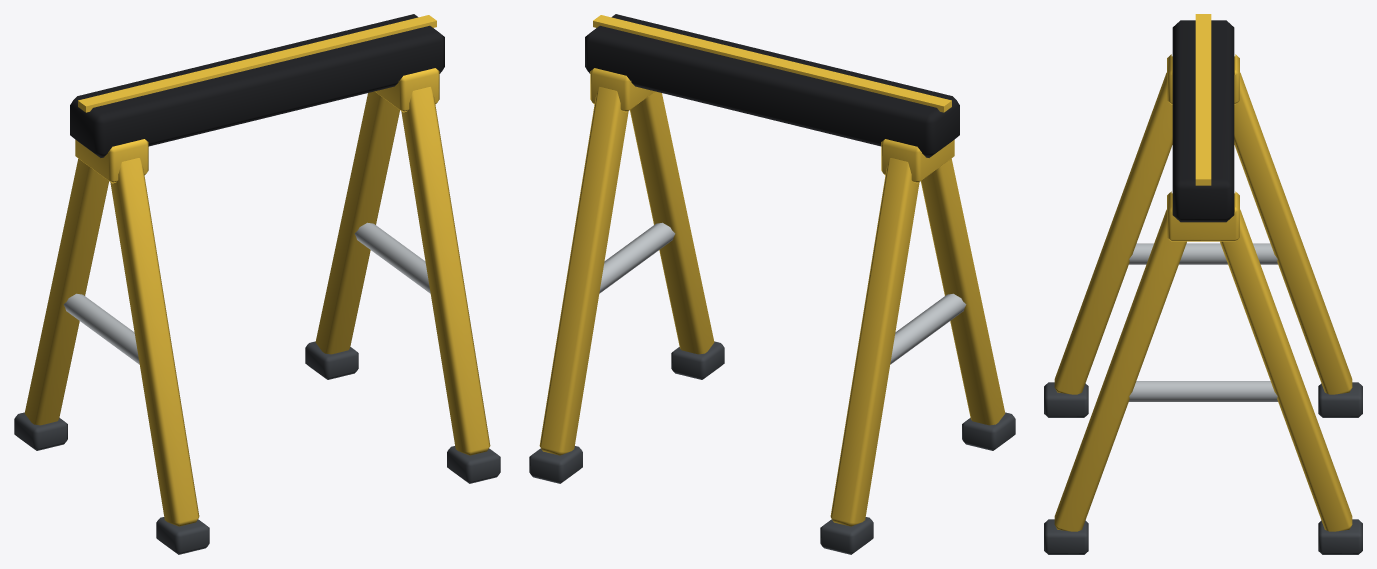
Rendered from SM_Sawhorse_Folding_01.glb.
3 views of the same model, side by side, from view 1: azimuth 30°, elevation 25°; view 2: azimuth 150°, elevation 25°; view 3: azimuth 270°, elevation 25° (orthographic). The views are drawn at different scales.
Parts seen in each view (by area): view 1: SM_Sawhorse_Folding_01; view 2: SM_Sawhorse_Folding_01; view 3: SM_Sawhorse_Folding_01.
Part boxes in pixels (bbox=[...]): SM_Sawhorse_Folding_01: bbox=[14, 14, 500, 554]; SM_Sawhorse_Folding_01: bbox=[529, 14, 1015, 554]; SM_Sawhorse_Folding_01: bbox=[1044, 14, 1362, 554].
Size of the model in its own units: 0.7 by 0.756 by 0.57.
1 material, 1 textured.
